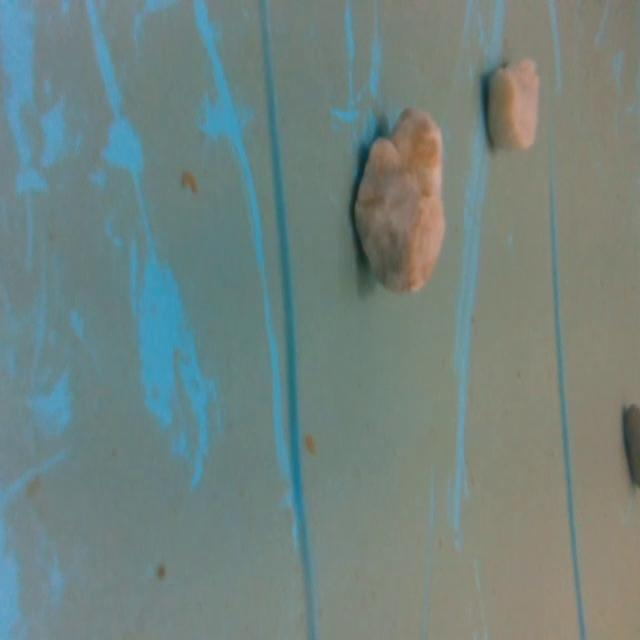rock: (346, 96, 451, 300), (472, 51, 550, 156)
